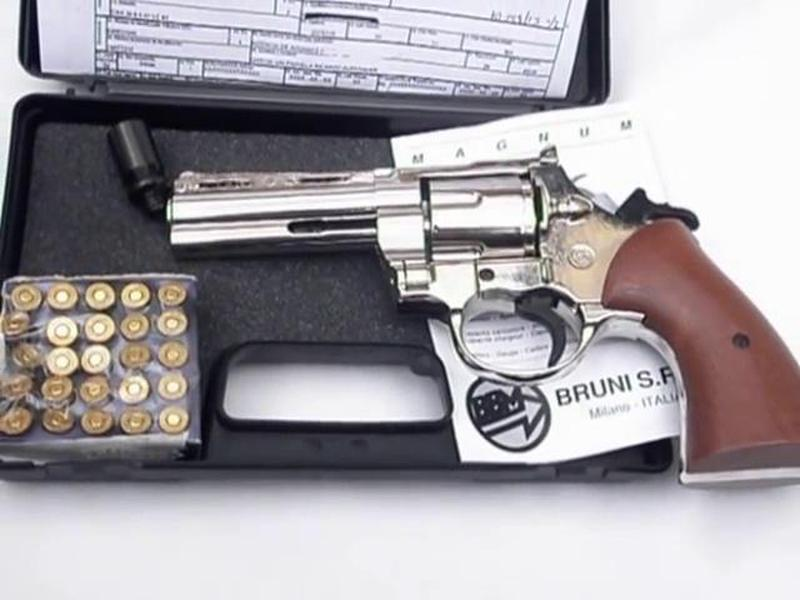Revolver: (167, 144, 800, 411)
